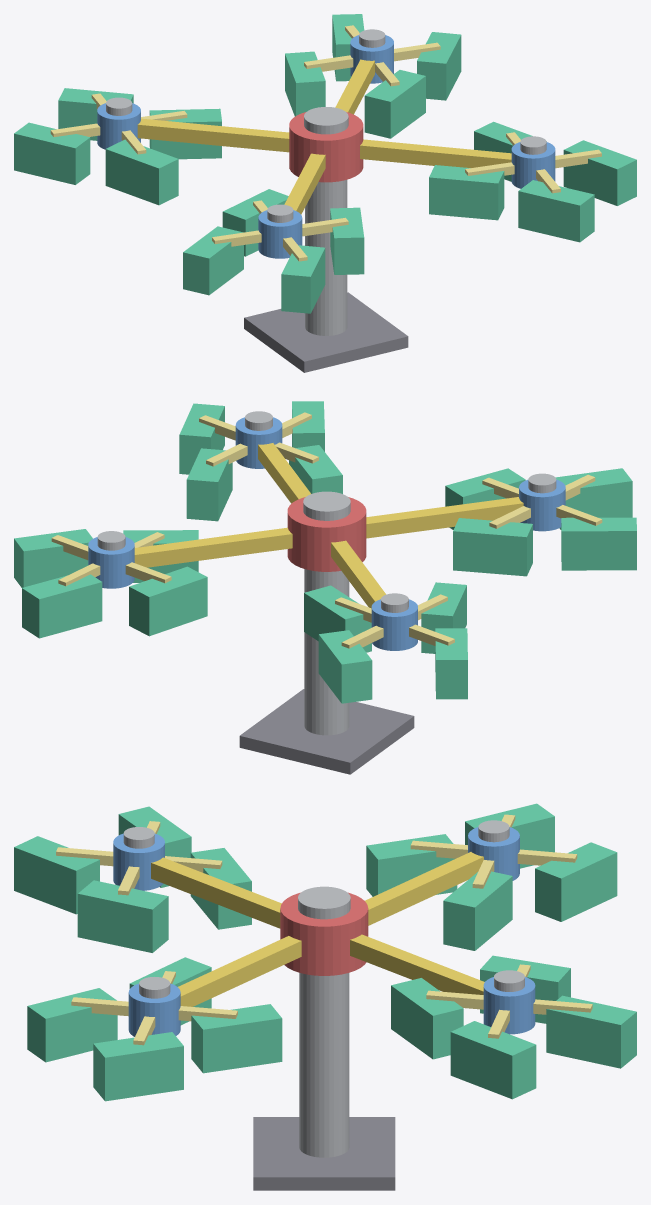
The model's file is boogabooster.fbx.
The picture shows the model from 3 angles, top to bottom: view 1: azimuth 30°, elevation 25°; view 2: azimuth 150°, elevation 25°; view 3: azimuth 270°, elevation 25°; orthographic projection. The views are drawn at different scales.
Parts seen in each view (by area): view 1: Base, Tower, Gondola_1_2, Gondola_3_3, Gondola_1_1, Gondola_3_4, MainMotorHousing, Gondola_1_3, Gondola_2_1, MainArm_3, Gondola_4_2, MainArm_1 (+21 smaller); view 2: Base, Gondola_4_1, Gondola_2_4, Gondola_2_3, Gondola_4_2, MainMotorHousing, Tower, MainArm_2, Gondola_3_2, MainArm_4, Gondola_2_2, Gondola_1_4 (+18 smaller); view 3: Tower, Base, Gondola_4_4, Gondola_1_3, Gondola_1_4, Gondola_2_2, Gondola_2_3, Gondola_3_2, MainMotorHousing, Gondola_1_2, Gondola_4_3, Gondola_3_1 (+27 smaller).
Part boxes in pixels (x1=…): Base: x1=244, y1=292, x2=408, y2=372; Tower: x1=305, y1=180, x2=347, y2=335; Gondola_1_2: x1=518, y1=180, x2=594, y2=242; Gondola_3_3: x1=14, y1=122, x2=90, y2=184; Gondola_1_1: x1=429, y1=165, x2=504, y2=220; Gondola_3_4: x1=105, y1=139, x2=178, y2=205; MainMotorHousing: x1=289, y1=112, x2=363, y2=182; Gondola_1_3: x1=563, y1=140, x2=636, y2=205; Gondola_2_1: x1=364, y1=70, x2=425, y2=138; MainArm_3: x1=137, y1=118, x2=289, y2=152; Gondola_4_2: x1=183, y1=226, x2=243, y2=295; MainArm_1: x1=360, y1=139, x2=511, y2=167; Base: x1=239, y1=689, x2=414, y2=774; Gondola_4_1: x1=453, y1=518, x2=532, y2=576; Gondola_2_4: x1=129, y1=566, x2=207, y2=636; Gondola_2_3: x1=22, y1=574, x2=102, y2=638; Gondola_4_2: x1=561, y1=517, x2=636, y2=570; MainMotorHousing: x1=287, y1=497, x2=366, y2=571; Tower: x1=304, y1=569, x2=349, y2=735; MainArm_2: x1=134, y1=527, x2=292, y2=567; Gondola_3_2: x1=318, y1=630, x2=372, y2=703; MainArm_4: x1=366, y1=497, x2=523, y2=538; Gondola_2_2: x1=14, y1=529, x2=92, y2=587; Gondola_1_4: x1=186, y1=448, x2=232, y2=521; Tower: x1=299, y1=973, x2=349, y2=1157; Base: x1=253, y1=1117, x2=395, y2=1190; Gondola_4_4: x1=77, y1=880, x2=168, y2=952; Gondola_1_3: x1=93, y1=1032, x2=183, y2=1101; Gondola_1_4: x1=191, y1=1004, x2=282, y2=1073; Gondola_2_2: x1=450, y1=1021, x2=536, y2=1099; Gondola_2_3: x1=546, y1=995, x2=636, y2=1068; Gondola_3_2: x1=535, y1=842, x2=617, y2=921; MainMotorHousing: x1=280, y1=892, x2=368, y2=975; Gondola_1_2: x1=27, y1=988, x2=117, y2=1062; Gondola_4_3: x1=14, y1=836, x2=99, y2=914; Gondola_3_1: x1=443, y1=871, x2=512, y2=950.
Size of the model in its own units: 1438 by 693 by 1489.
